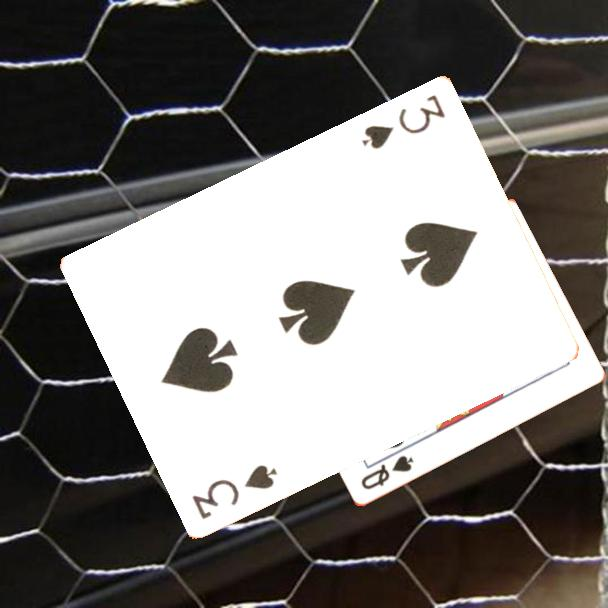s03: (358, 90, 449, 152), (189, 460, 280, 522)
s12: (357, 452, 417, 493)
